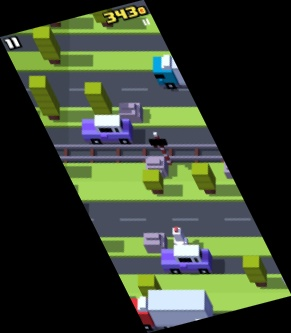car: (81, 112, 135, 145), (159, 245, 212, 275)
duck: (169, 225, 187, 248)
light off: (147, 129, 170, 166)
rail: (46, 143, 234, 164)
rock: (142, 230, 167, 255), (118, 101, 143, 125), (221, 157, 246, 180), (146, 155, 167, 177)
tree: (28, 77, 61, 119), (32, 24, 60, 65), (84, 82, 115, 119), (137, 274, 163, 309), (242, 254, 267, 287), (191, 163, 216, 194), (91, 1, 114, 29), (141, 170, 164, 194)
truck: (127, 289, 215, 332), (150, 57, 226, 90)
